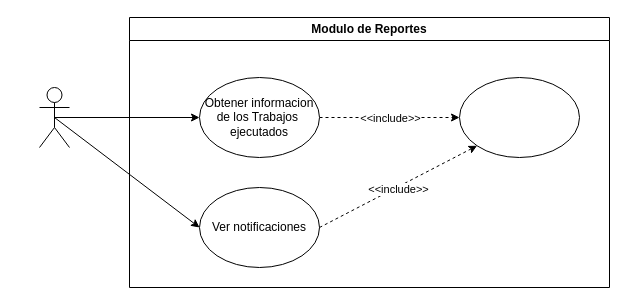
This 627x305 diagram has some shape labels left out. Each missing label, with the box of its shape:
Administrador: (38, 86, 70, 148)
Obtener trazas(logs): (458, 76, 580, 158)
